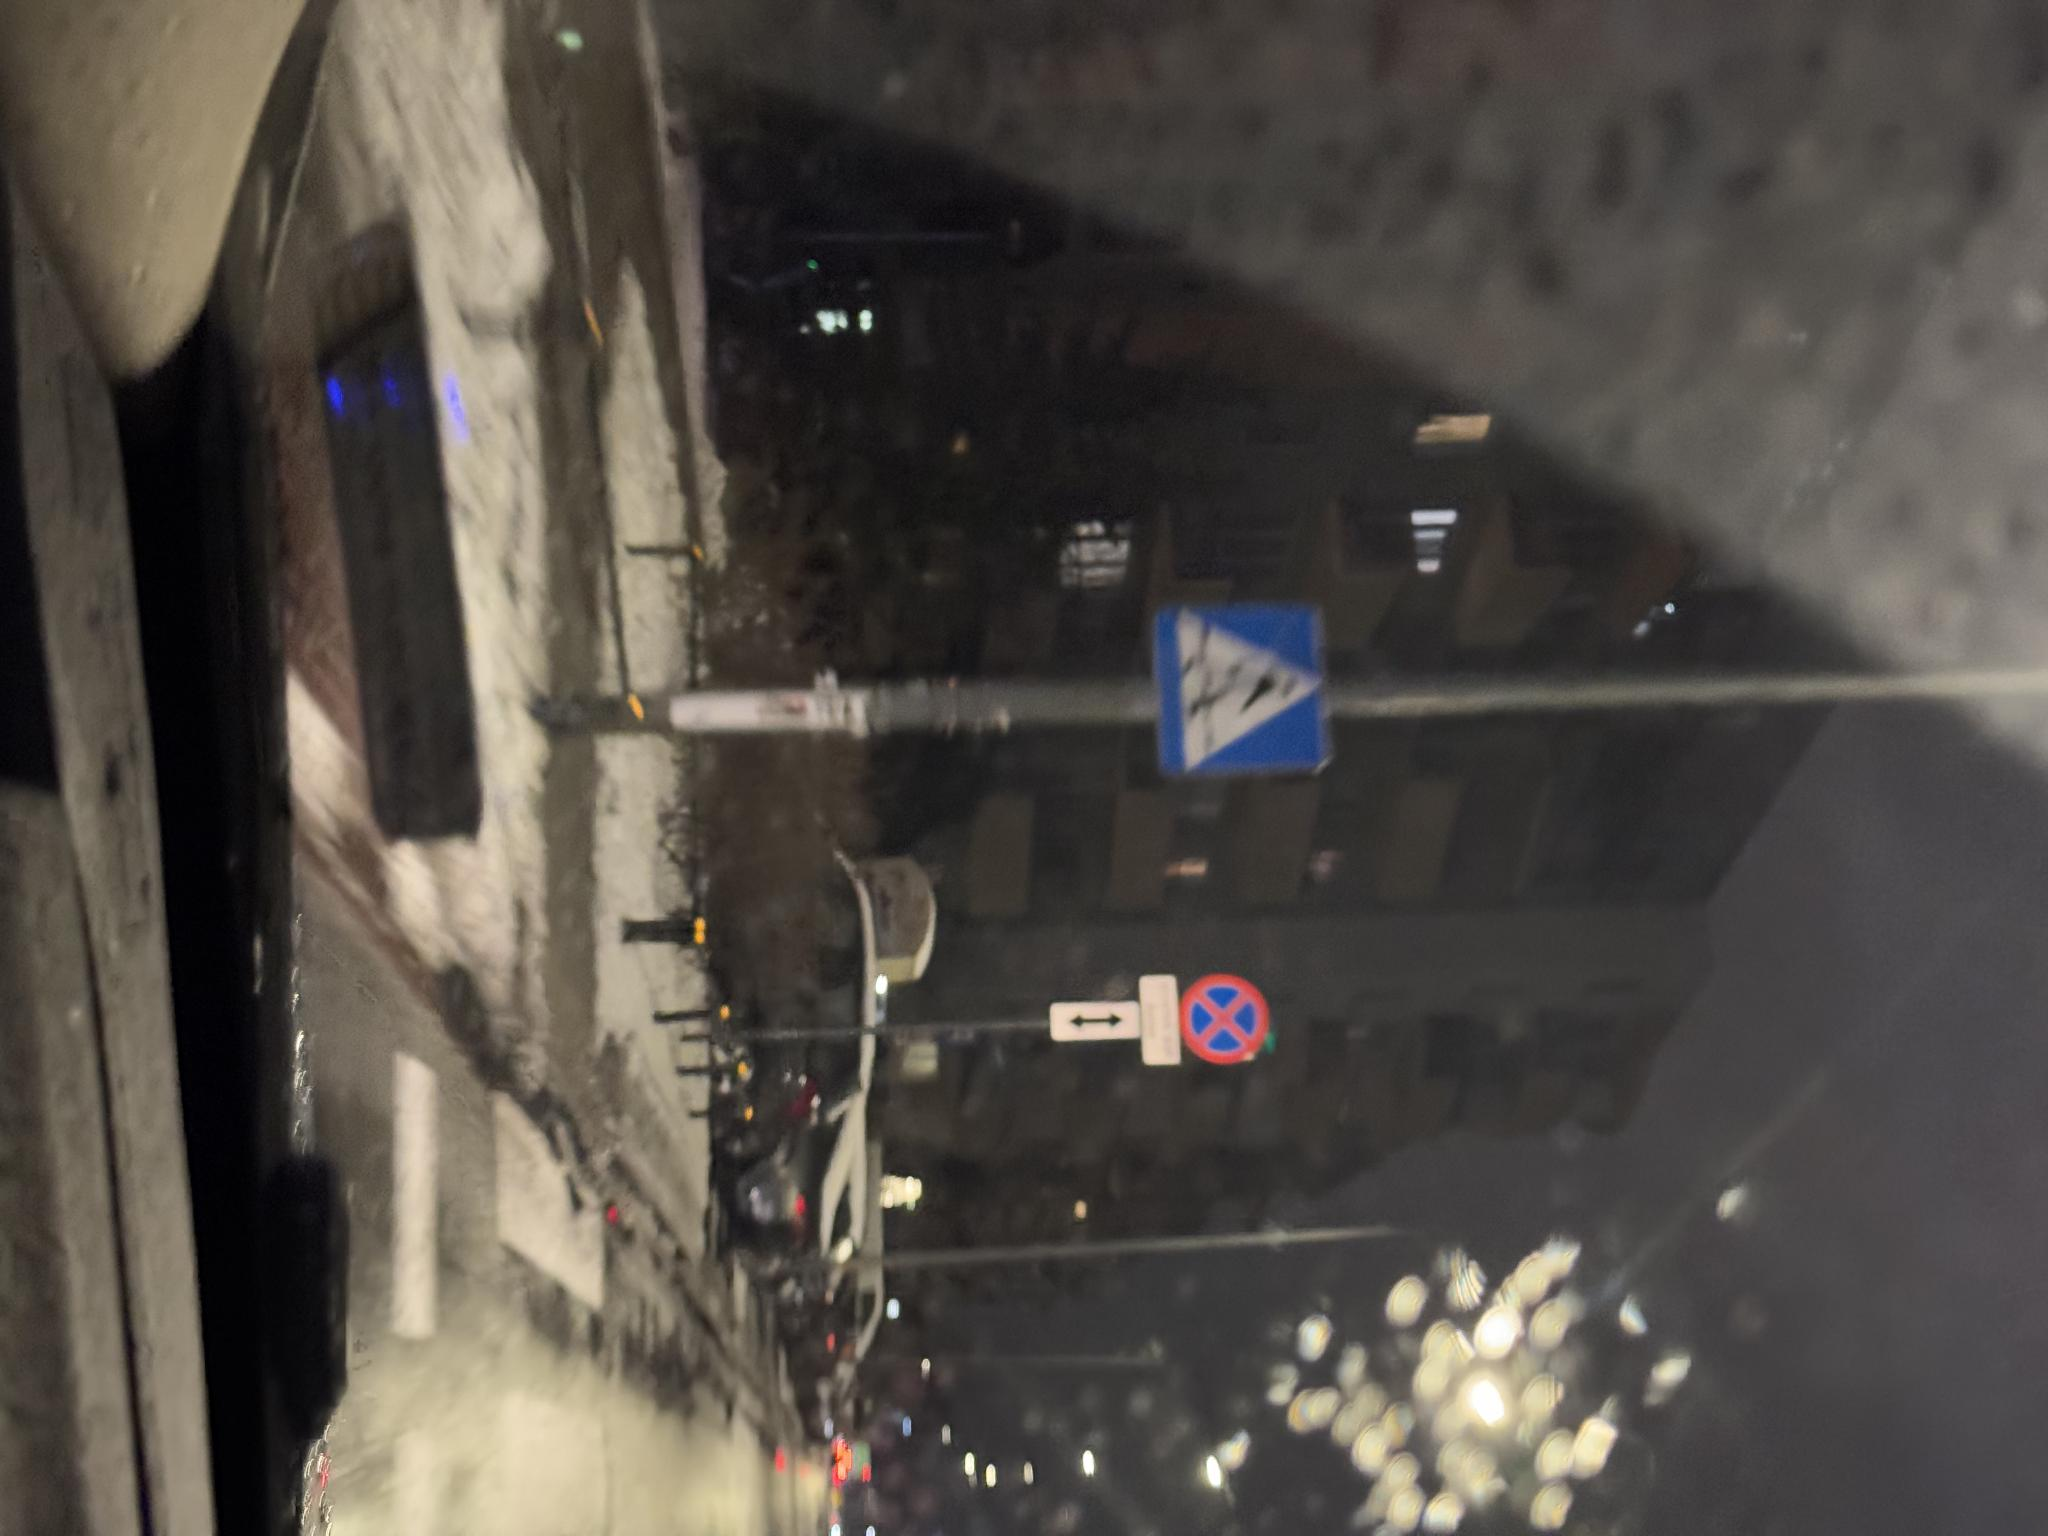information: (1111, 721, 1288, 895)
other: (1511, 907, 1553, 1000), (1487, 870, 1577, 910)
prohibitory: (1484, 778, 1577, 871)
